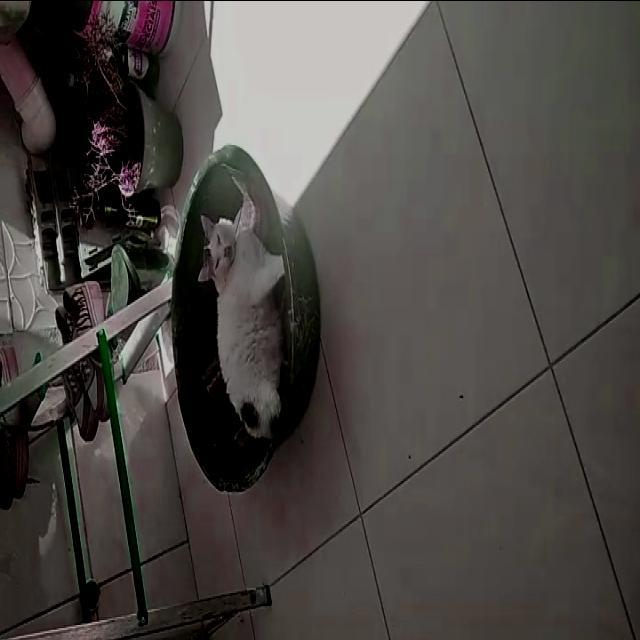Simba: (202, 197, 282, 421)
